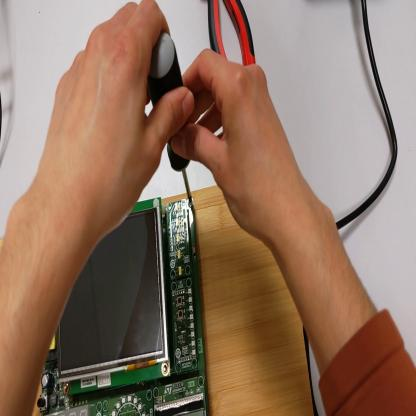hand: (42, 5, 186, 235), (174, 47, 306, 247)
low voltage board: (37, 198, 209, 416)
pliers: (202, 1, 258, 72)
screwdriver-: (149, 36, 191, 203)
working area: (33, 186, 315, 415)
